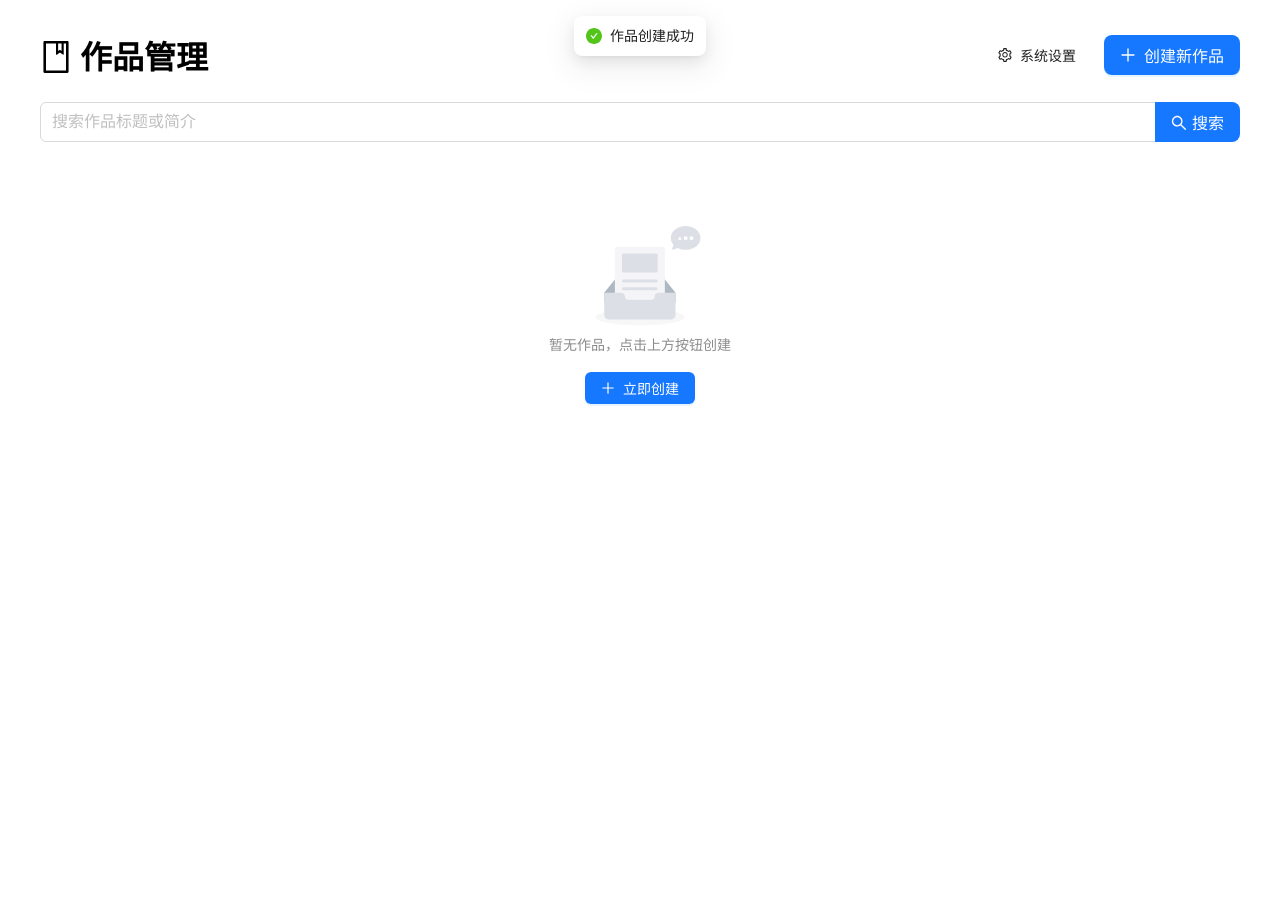
DashboardPage › should close create modal on cancel
The width and height of the screenshot is (1280, 900).
Click the button "创建新作品" at (1172, 55), box [1104, 35, 1240, 75]
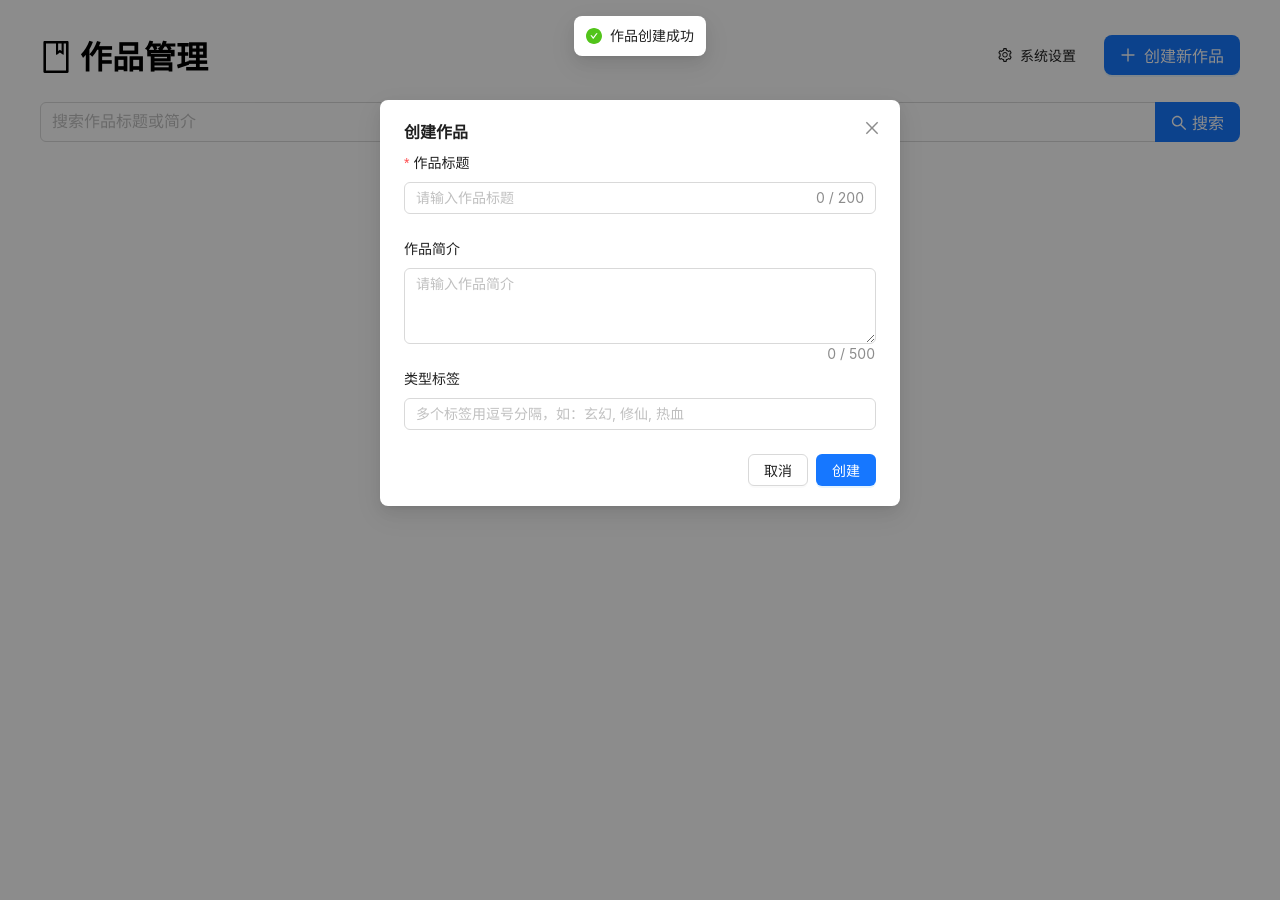
Click the button "取消" at (778, 470), box [748, 454, 808, 486]
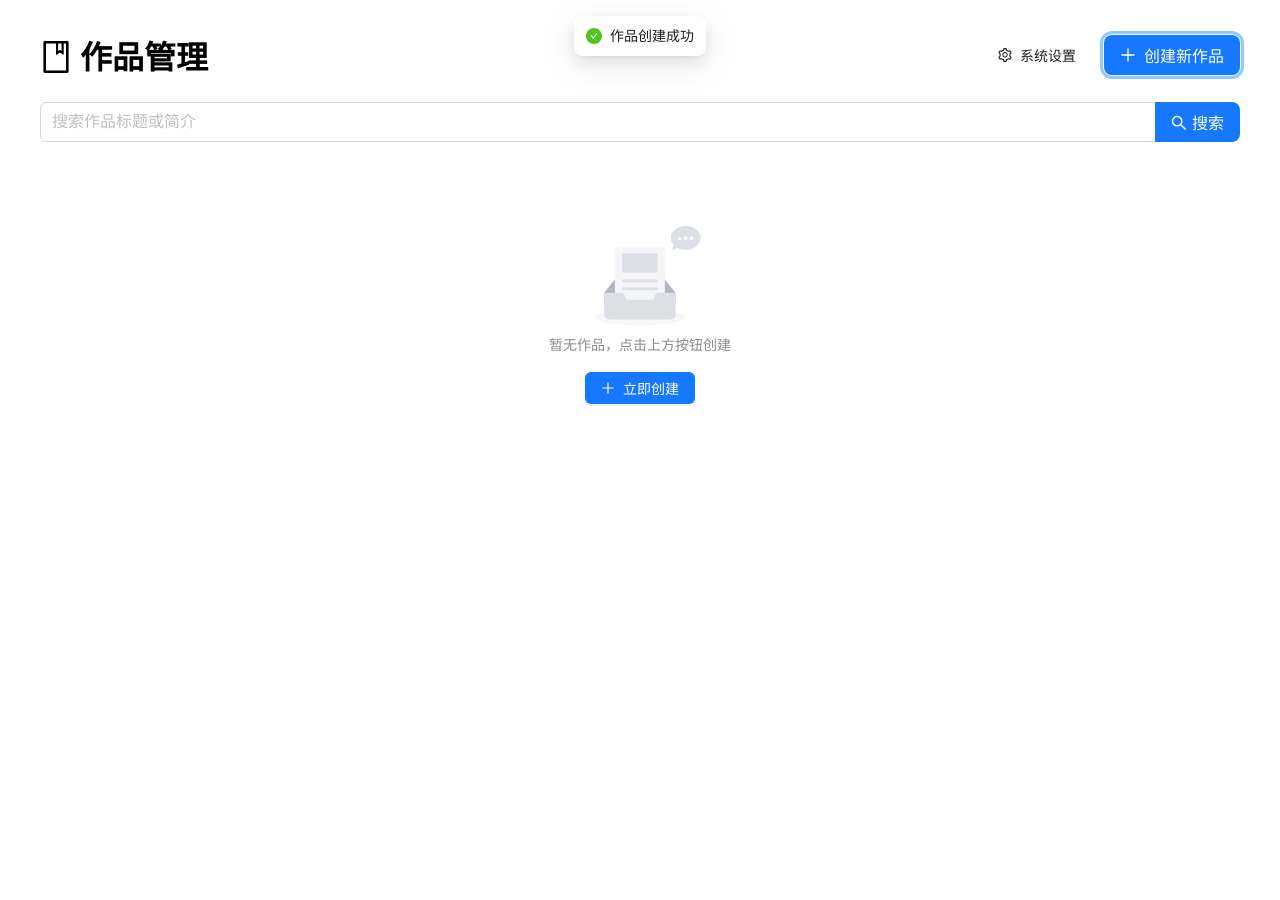
Expected: the dialog is gone
